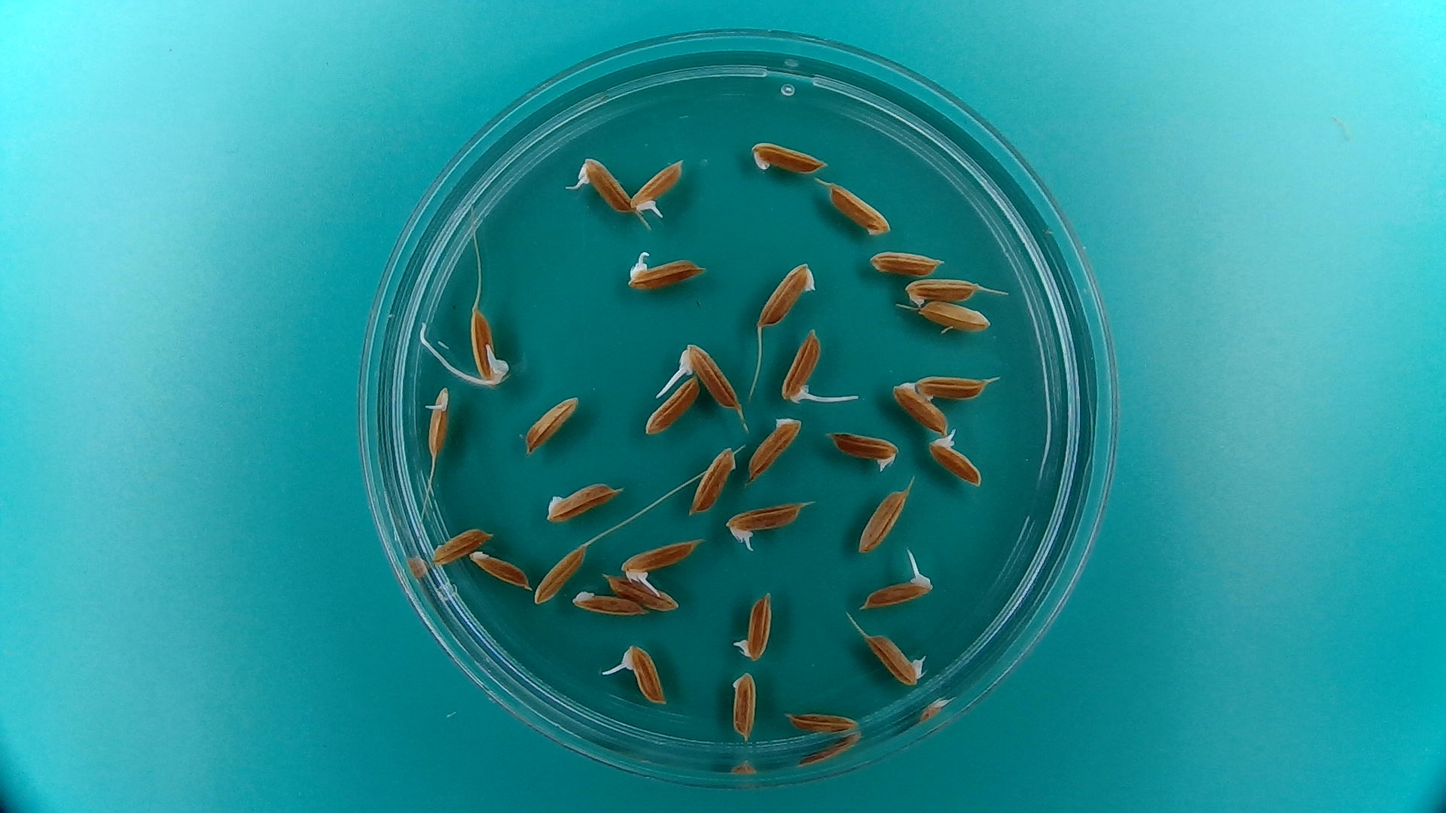no: (754, 256, 818, 326), (746, 409, 804, 483), (854, 483, 911, 558), (543, 477, 628, 526), (687, 442, 741, 519), (530, 538, 590, 607), (642, 372, 705, 437), (825, 179, 894, 236), (522, 390, 581, 455), (890, 374, 951, 435), (600, 571, 682, 615), (746, 136, 830, 176), (906, 370, 997, 405), (468, 547, 533, 592), (918, 297, 992, 336), (427, 522, 494, 565), (781, 705, 863, 739), (901, 274, 981, 307), (866, 245, 947, 277), (567, 588, 647, 620), (728, 666, 759, 742)
yes: (450, 295, 511, 387), (672, 337, 745, 412), (722, 496, 813, 553), (616, 534, 703, 586), (856, 556, 938, 611), (570, 153, 639, 218), (779, 321, 827, 406), (862, 627, 929, 687), (622, 246, 709, 292), (615, 639, 670, 708), (923, 422, 984, 484), (824, 428, 901, 474), (630, 155, 687, 216), (733, 585, 776, 664), (424, 384, 452, 462)
